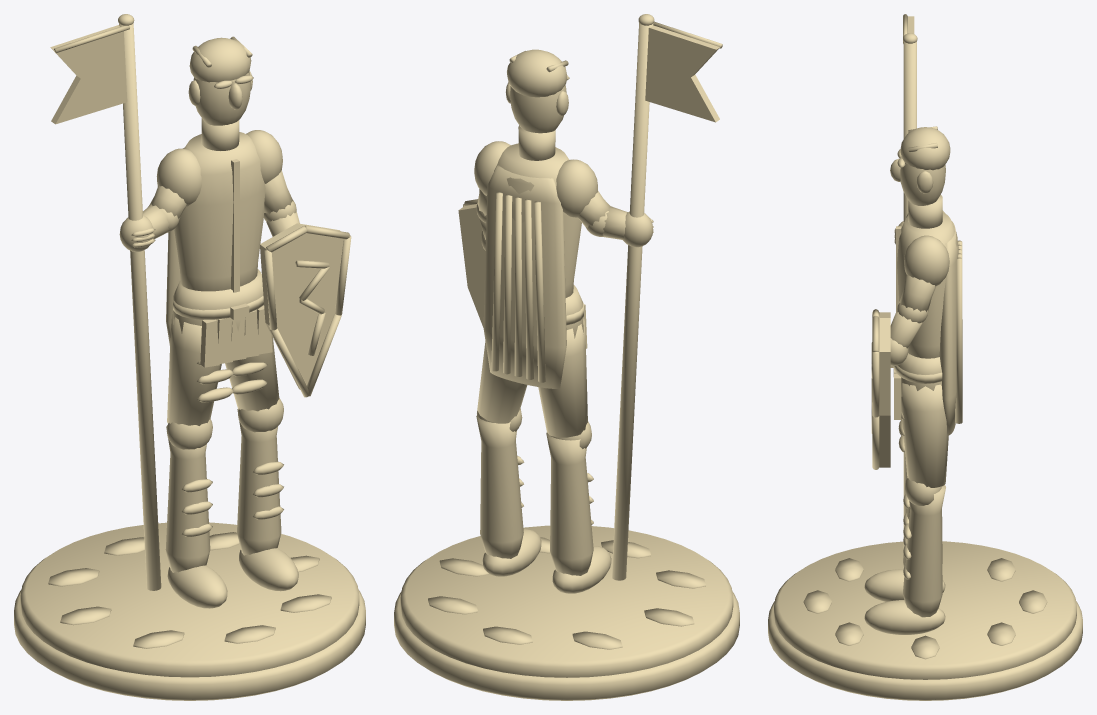
File: knight-beige-level-2-bare.fbx
The picture shows the model from 3 angles, left to right: view 1: azimuth 30°, elevation 25°; view 2: azimuth 150°, elevation 25°; view 3: azimuth 270°, elevation 25°; orthographic projection. The views are drawn at different scales.
Visible parts, largest first — view 1: Knight_Level_2_Bare_Sculpt; view 2: Knight_Level_2_Bare_Sculpt; view 3: Knight_Level_2_Bare_Sculpt.
Boxes of the visible parts, x1,y1,x2,y2 form: Knight_Level_2_Bare_Sculpt: (14, 14, 365, 700); Knight_Level_2_Bare_Sculpt: (394, 14, 739, 700); Knight_Level_2_Bare_Sculpt: (768, 14, 1082, 700).
Bounding box in the file's own units: 0.012 × 0.024 × 0.012.
